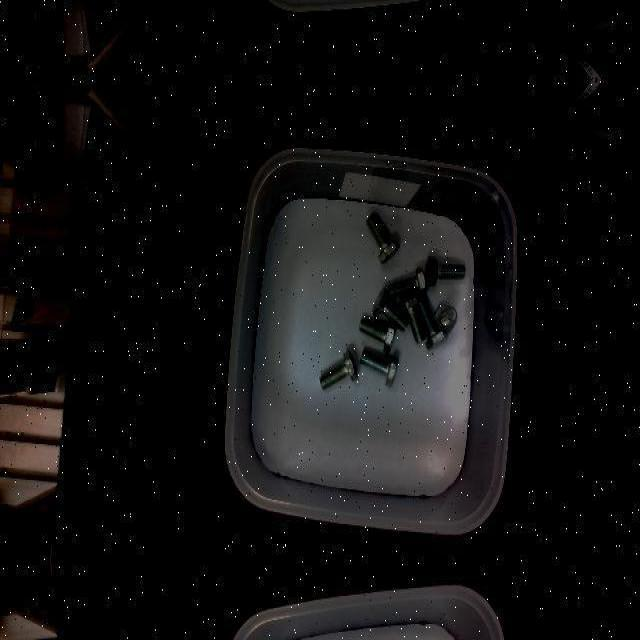screw: (365, 213, 399, 263), (416, 298, 448, 350), (372, 288, 409, 332), (319, 350, 358, 390), (359, 349, 399, 387), (358, 317, 397, 353), (397, 292, 425, 342), (388, 266, 427, 300), (425, 255, 465, 285), (433, 304, 457, 334)
